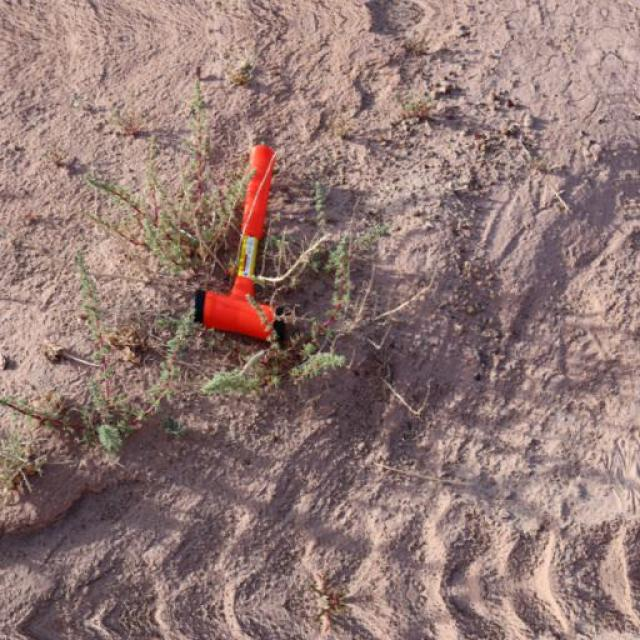mallet: (191, 141, 284, 344)
